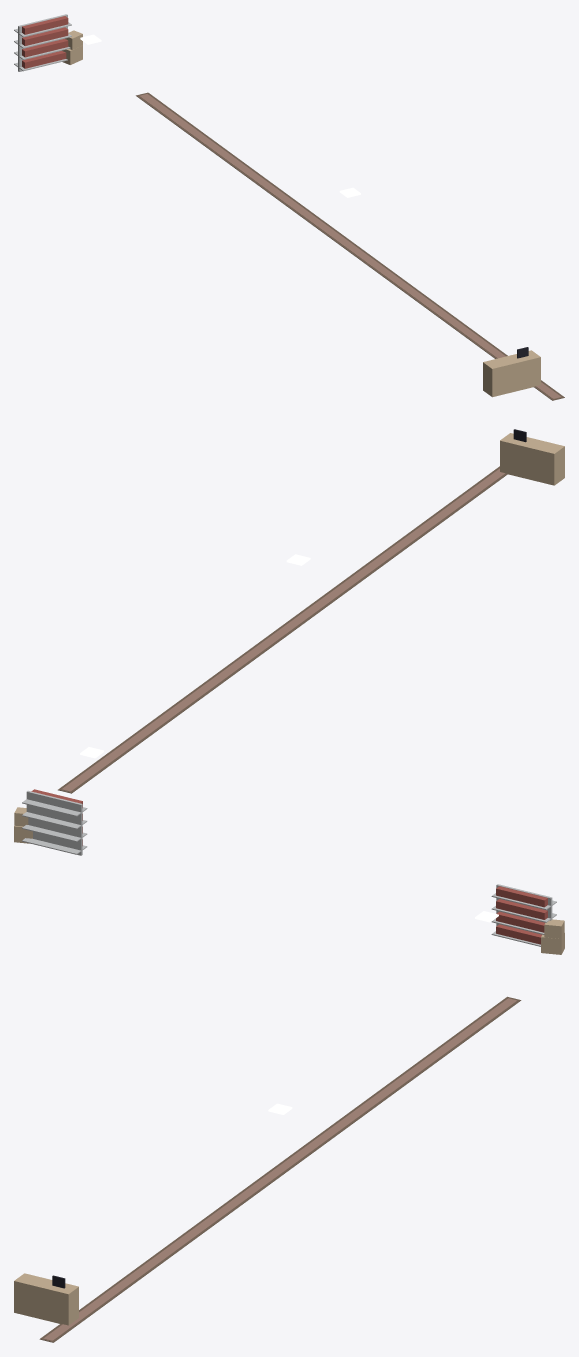
Rendered from fine-s0.glb.
3 renders of one model, top to bottom at view 1: azimuth 30°, elevation 25°; view 2: azimuth 150°, elevation 25°; view 3: azimuth 330°, elevation 25°, orthographic. The views are drawn at different scales.
Visible parts, largest first — view 1: soft-s0, shelving.000, shop-counter.000, cardboard-box.000; view 2: soft-s0, shelving.000, shop-counter.000; view 3: soft-s0, shelving.000, shop-counter.000, cardboard-box.000.
Part boxes in pixels (x1,y1,x2,y2): soft-s0: (136, 92, 564, 400); shelving.000: (14, 14, 71, 71); shop-counter.000: (483, 347, 540, 397); cardboard-box.000: (62, 30, 82, 64); soft-s0: (58, 466, 507, 793); shelving.000: (22, 789, 87, 855); shop-counter.000: (500, 429, 564, 485); soft-s0: (39, 996, 521, 1342); shelving.000: (491, 884, 556, 946); shop-counter.000: (14, 1273, 78, 1325); cardboard-box.000: (541, 919, 564, 954).
Size of the model in its own units: 2.81 by 1.94 by 30.45.
